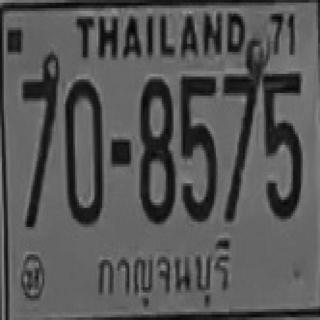N00: (64, 78, 102, 223)
N05: (262, 71, 301, 216), (179, 72, 216, 220)
N07: (22, 63, 59, 222), (222, 72, 258, 218), (222, 74, 258, 159)
N08: (139, 76, 174, 222)
P17: (91, 233, 235, 309)
